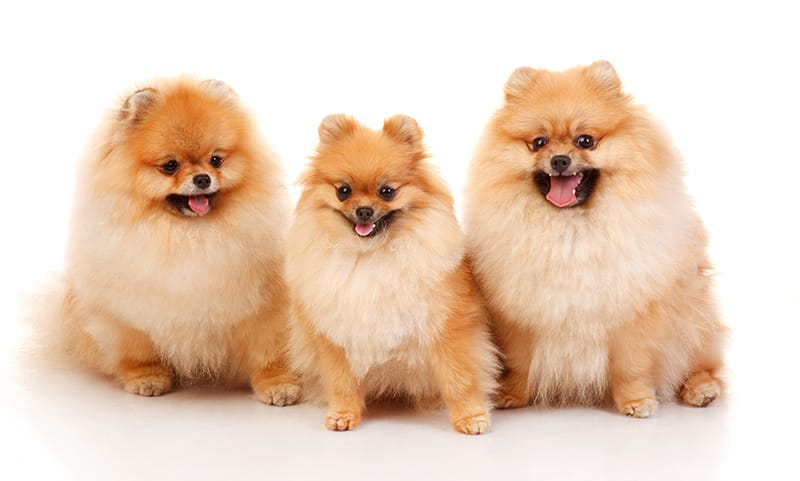pomeranian: (473, 51, 742, 433), (66, 71, 280, 414), (286, 94, 491, 435)
